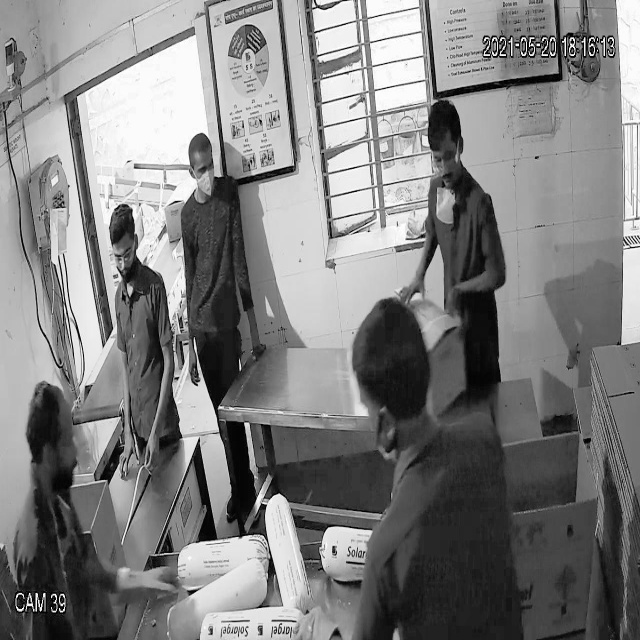Gafas: (427, 140, 466, 173), (111, 239, 140, 270)
